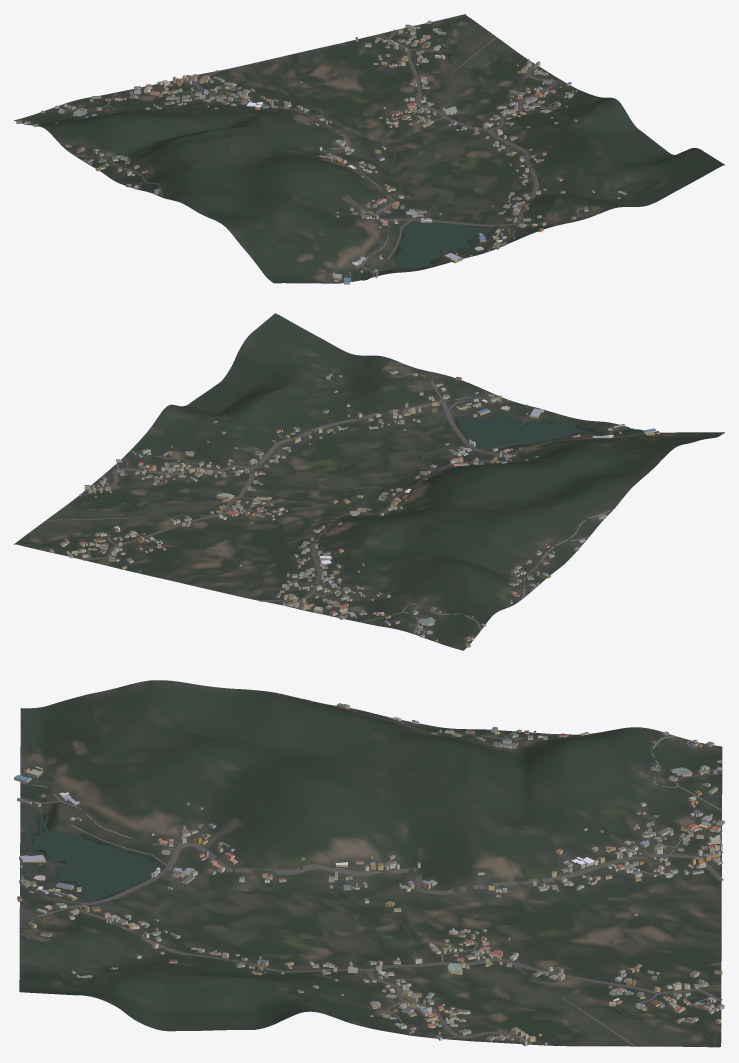
The picture shows the model from 3 angles, top to bottom: view 1: azimuth 30°, elevation 25°; view 2: azimuth 150°, elevation 25°; view 3: azimuth 270°, elevation 25°; orthographic projection. The views are drawn at different scales.
Parts seen in each view (by area): view 1: ground, buildings, roads, water; view 2: ground, buildings, roads, water; view 3: ground, buildings, roads, water.
Part boxes in pixels (x1=…): ground: x1=14, y1=14, x2=724, y2=283; buildings: x1=16, y1=20, x2=626, y2=284; roads: x1=28, y1=29, x2=603, y2=281; water: x1=364, y1=16, x2=490, y2=279; ground: x1=14, y1=313, x2=724, y2=650; buildings: x1=49, y1=370, x2=659, y2=647; roads: x1=46, y1=362, x2=643, y2=639; water: x1=17, y1=415, x2=634, y2=545; ground: x1=19, y1=680, x2=722, y2=1047; buildings: x1=14, y1=703, x2=724, y2=1045; roads: x1=20, y1=698, x2=723, y2=1046; water: x1=20, y1=792, x2=715, y2=1047.
Bounding box in the file's own units: 1414 × 159 × 1420.
